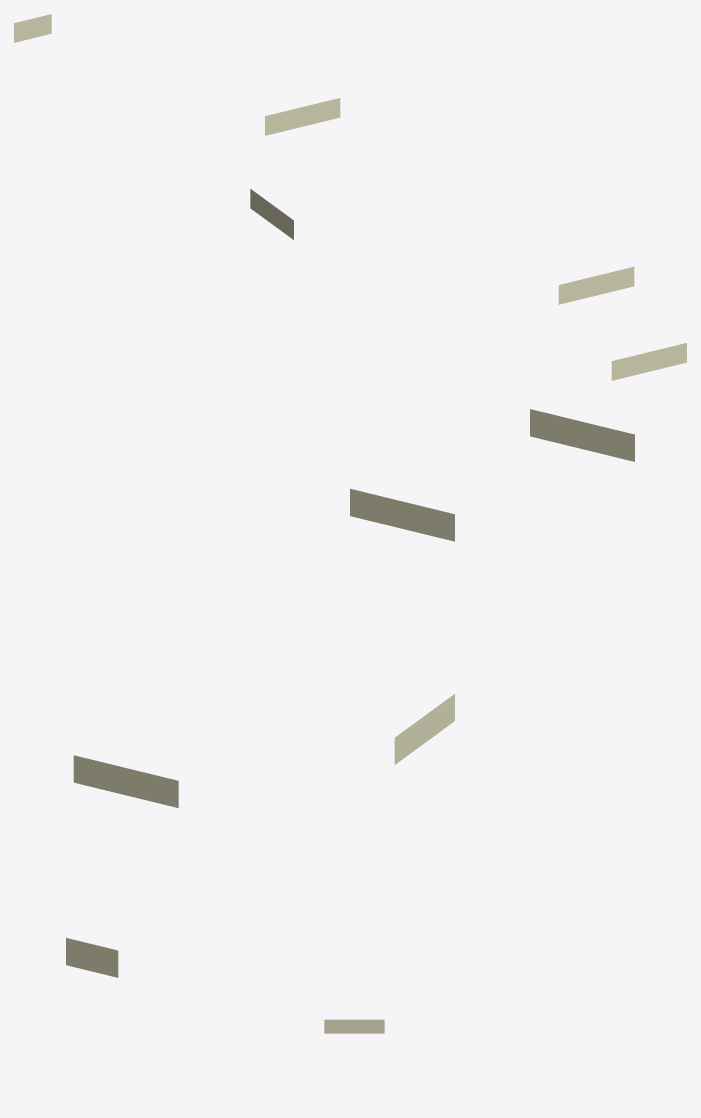
The model's file is object_18_lev1_lev2.glb.
3 renders of one model, top to bottom at view 1: azimuth 30°, elevation 25°; view 2: azimuth 150°, elevation 25°; view 3: azimuth 270°, elevation 25°, orthographic. The views are drawn at different scales.
Parts seen in each view (by area): view 1: object_18_lev1_lev2; view 2: object_18_lev1_lev2; view 3: object_18_lev1_lev2.
Boxes of the visible parts, x1,y1,x2,y2 form: object_18_lev1_lev2: (14, 14, 686, 380); object_18_lev1_lev2: (66, 409, 634, 977); object_18_lev1_lev2: (324, 1019, 384, 1033).
Size of the model in its own units: 14.9 by 1.91 by 55.2.
